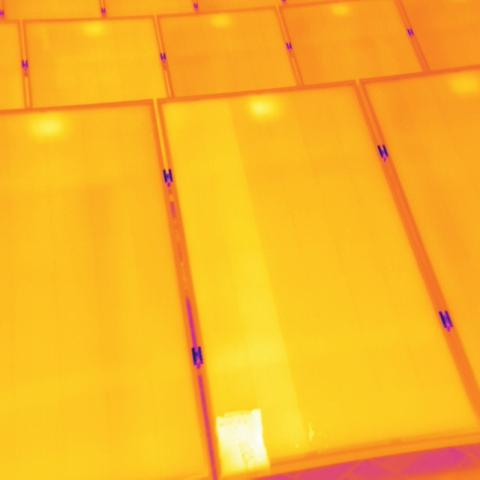fault: (211, 407, 270, 472), (246, 94, 280, 120)
